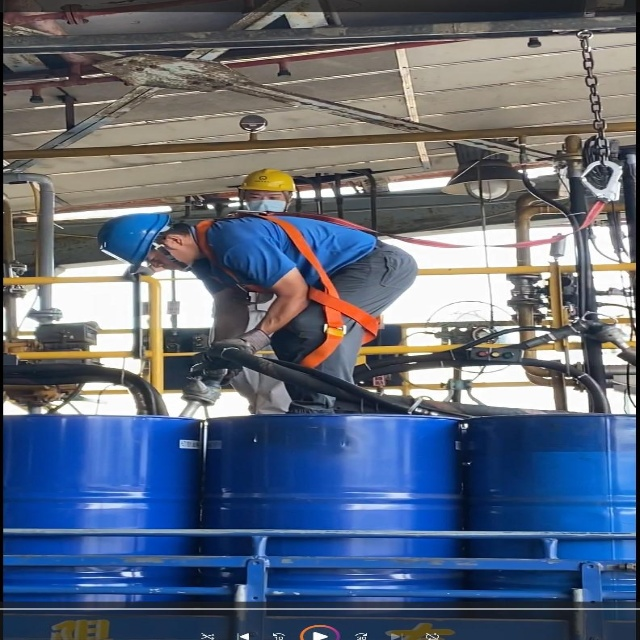Arnes_seguridad: (194, 214, 383, 373)
